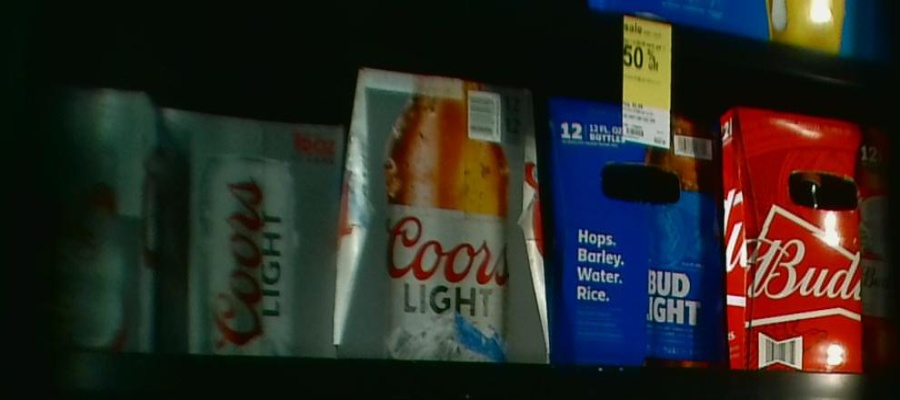bottle: (339, 66, 544, 370), (549, 92, 725, 366), (725, 102, 896, 373), (5, 84, 164, 355), (163, 107, 336, 352)
